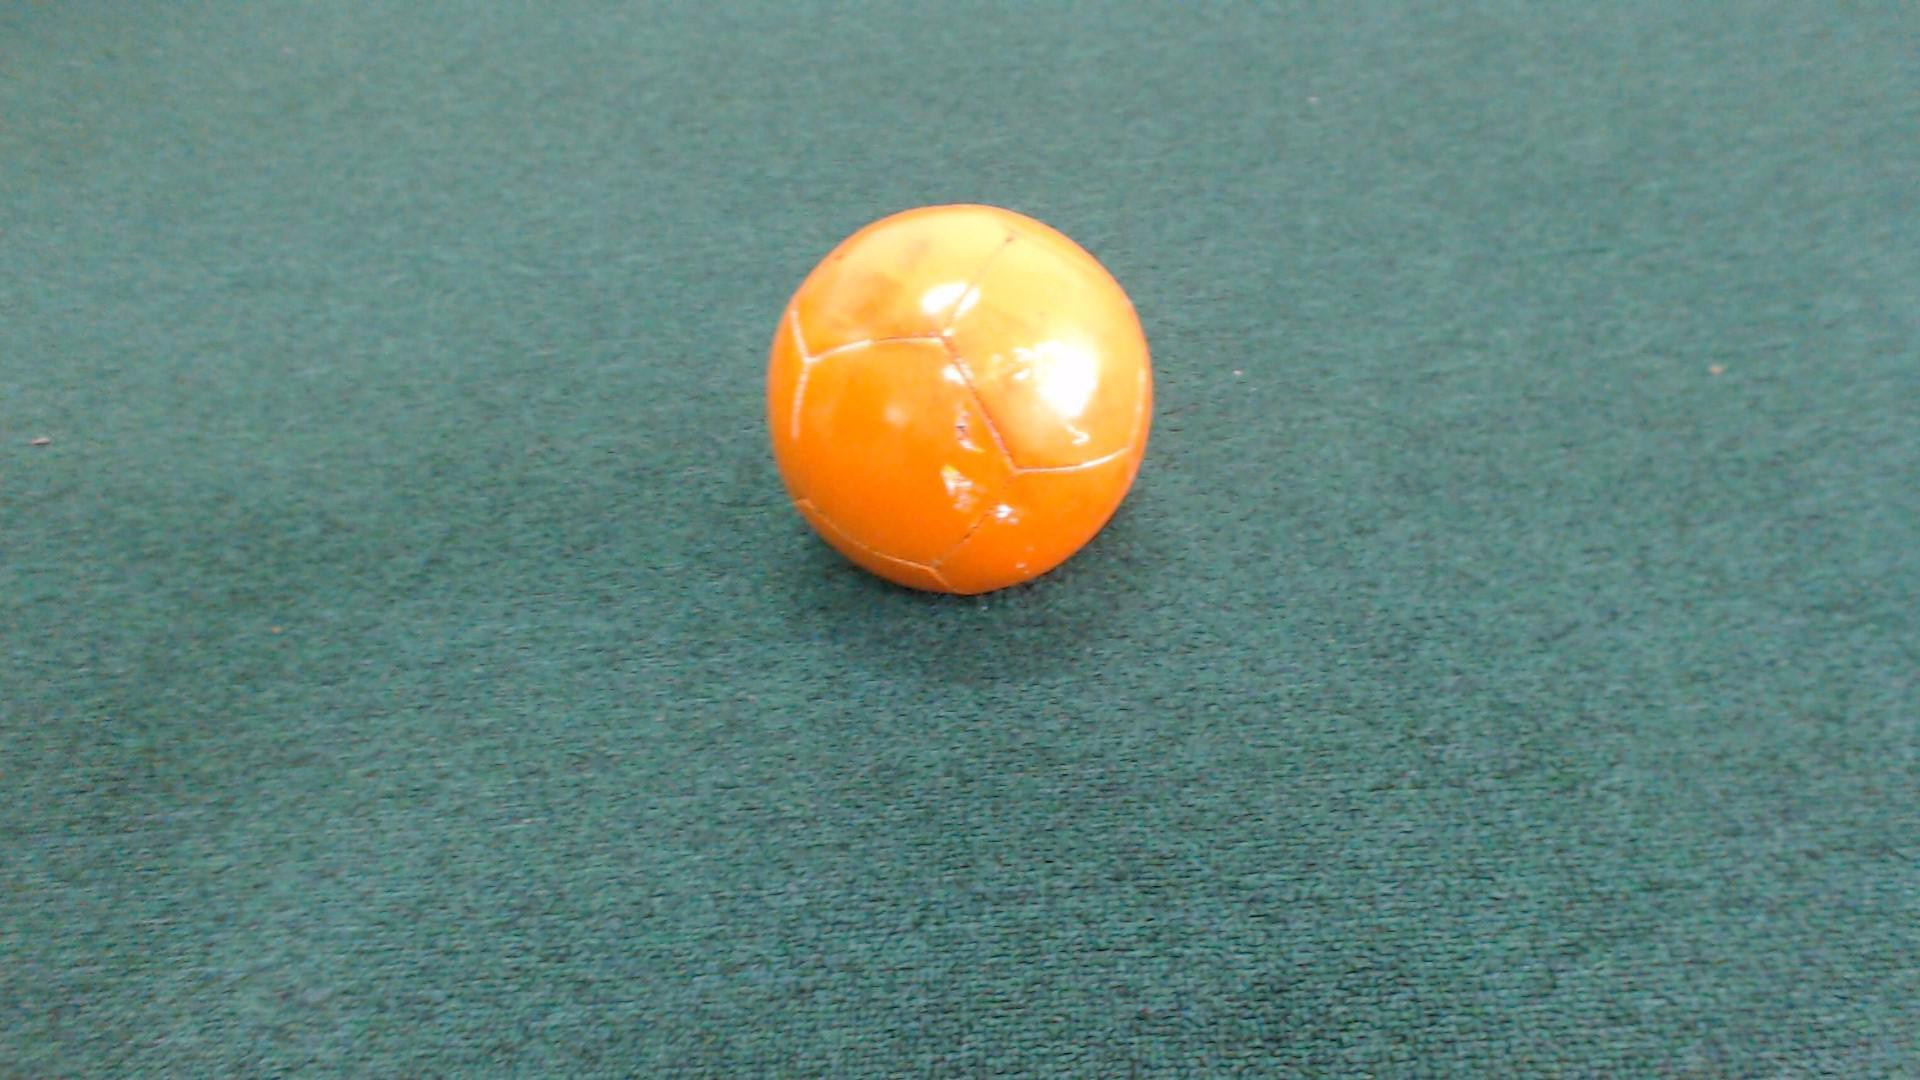bola: (729, 194, 1178, 615)
